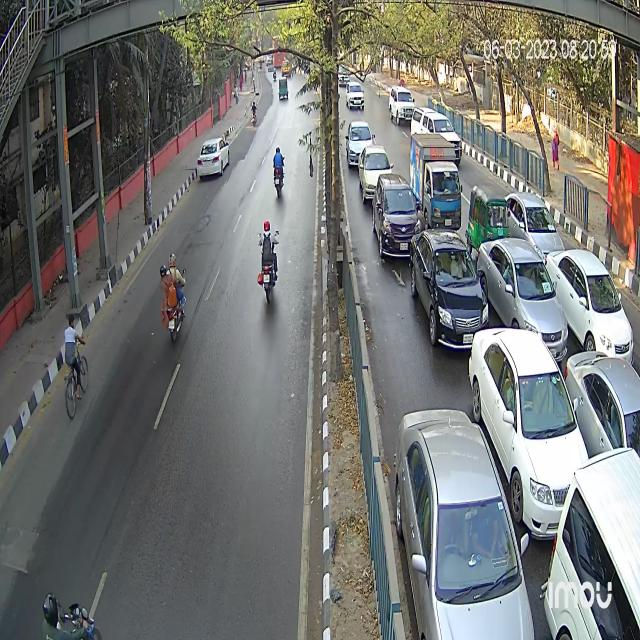cng: (466, 181, 510, 264), (277, 74, 289, 103)
